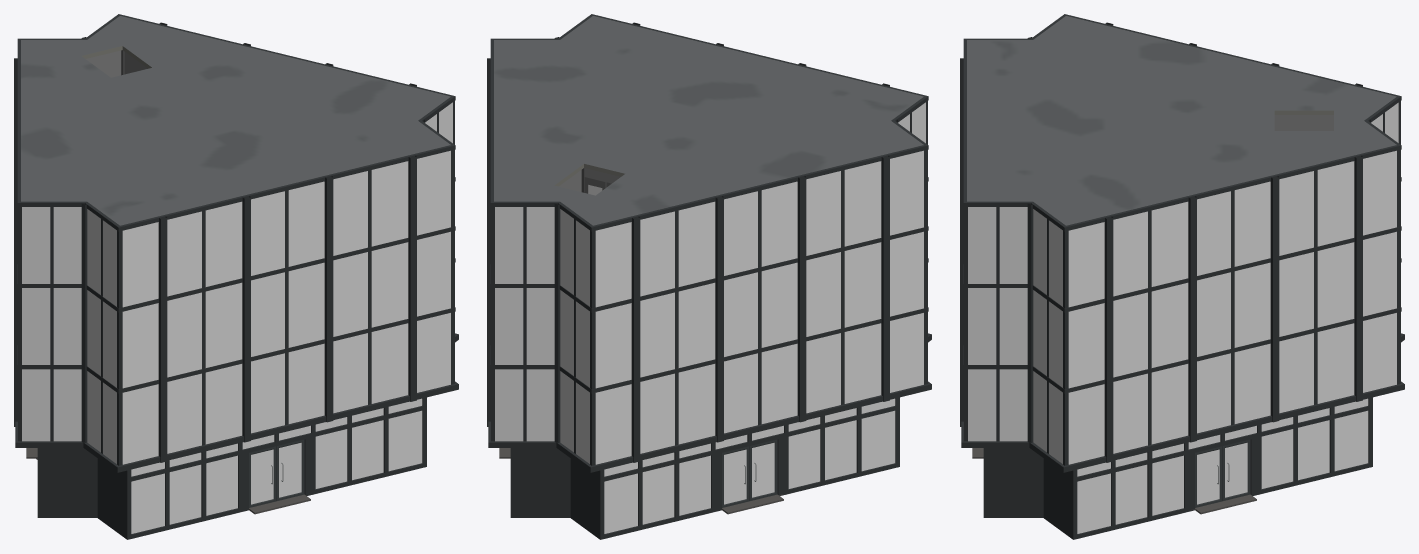
The model's file is SM_Bldg_City_High-Rise_Modern_02_Base.fbx.
The picture shows the model from 3 angles, left to right: view 1: azimuth 30°, elevation 25°; view 2: azimuth 150°, elevation 25°; view 3: azimuth 270°, elevation 25°; orthographic projection.
Visible parts, largest first — view 1: SM_Bldg_City_High-Rise_Modern_02_Base; view 2: SM_Bldg_City_High-Rise_Modern_02_Base; view 3: SM_Bldg_City_High-Rise_Modern_02_Base.
Part boxes in pixels (left/top/right/bottom): SM_Bldg_City_High-Rise_Modern_02_Base: left=14, top=14, right=458, bottom=539; SM_Bldg_City_High-Rise_Modern_02_Base: left=487, top=14, right=931, bottom=539; SM_Bldg_City_High-Rise_Modern_02_Base: left=960, top=14, right=1404, bottom=539.
Size of the model in its own units: 17.18 by 12 by 14.93.
